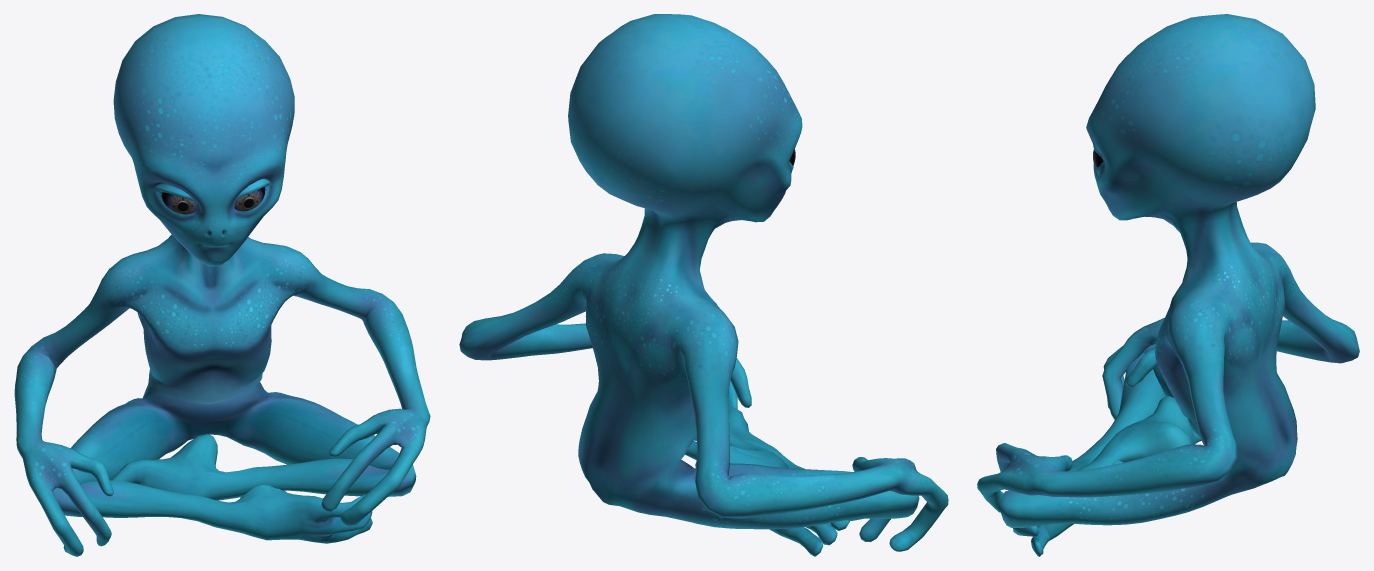
Rendered from alien (2).glb.
The picture shows the model from 3 angles, left to right: view 1: azimuth 30°, elevation 25°; view 2: azimuth 150°, elevation 25°; view 3: azimuth 270°, elevation 25°; orthographic projection. The views are drawn at different scales.
Parts seen in each view (by area): view 1: node_id5; view 2: node_id5; view 3: node_id5.
Part boxes in pixels (bbox=[...]): node_id5: bbox=[14, 14, 430, 556]; node_id5: bbox=[459, 14, 948, 556]; node_id5: bbox=[977, 14, 1359, 556].
Size of the model in its own units: 0.4137 by 0.4731 by 0.3299.
1 material, 1 textured.
